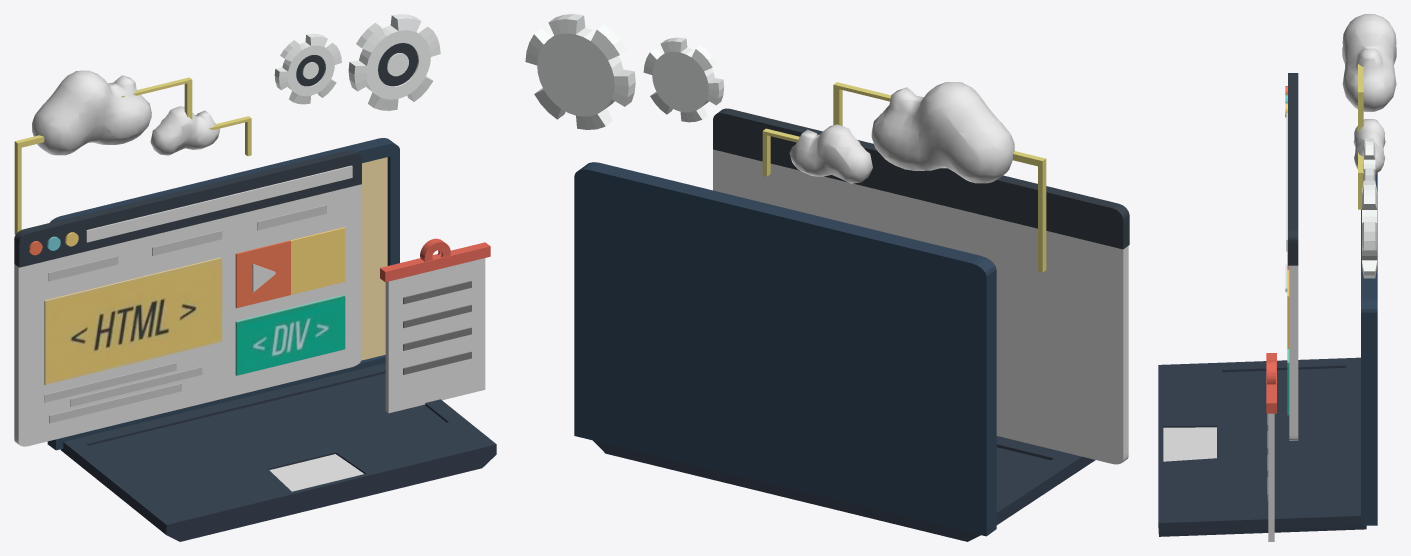
Rendered from flatdesign-transformed.glb.
3 renders of one model, left to right at view 1: azimuth 30°, elevation 25°; view 2: azimuth 150°, elevation 25°; view 3: azimuth 270°, elevation 25°, orthographic. The views are drawn at different scales.
Parts seen in each view (by area): view 1: Cube_0, Cube.007_0, Cube.001_0, Cube_1, Mball.008_0, Cylinder.003_0, Cube.013_0, Cube.006_0, Cube.006_1, Cube.002_0, Cube.002_1, Cube.009_0 (+3 smaller); view 2: Cube.006_0, Cube_0, Mball.008_0, Cube_1, Cylinder.003_0, Cube.007_0, Cube.014_0; view 3: Cube.007_0, Mball.008_0, Cube_0, Cube.006_0, Cube_1, Cylinder.003_0, Cube.009_0, Cube.014_0.
Boxes of the visible parts, x1,y1,x2,y2 form: Cube_0: [14, 165, 485, 491]; Cube.007_0: [60, 363, 496, 541]; Cube.001_0: [44, 257, 345, 385]; Cube_1: [14, 150, 361, 267]; Mball.008_0: [32, 70, 219, 155]; Cylinder.003_0: [274, 14, 440, 110]; Cube.013_0: [44, 205, 326, 423]; Cube.006_0: [47, 138, 399, 450]; Cube.006_1: [361, 157, 387, 360]; Cube.002_0: [65, 227, 345, 294]; Cube.002_1: [235, 240, 290, 308]; Cube.009_0: [380, 238, 490, 282]; Cube.006_0: [574, 162, 996, 536]; Cube_0: [713, 149, 1128, 464]; Mball.008_0: [789, 82, 1014, 183]; Cube_1: [713, 108, 1129, 249]; Cylinder.003_0: [525, 14, 724, 129]; Cube.007_0: [593, 436, 1095, 541]; Cube.014_0: [762, 82, 1046, 272]; Cube.007_0: [1158, 357, 1366, 536]; Mball.008_0: [1342, 14, 1396, 173]; Cube_0: [1163, 112, 1298, 541]; Cube.006_0: [1361, 173, 1377, 525]; Cube_1: [1288, 73, 1298, 265]; Cylinder.003_0: [1362, 138, 1377, 278]; Cube.009_0: [1266, 353, 1276, 413]; Cube.014_0: [1358, 64, 1363, 209].
Bounding box in the file's own units: 7.92 × 6.38 × 3.62.
Materials: 17 (1 with a texture image).
